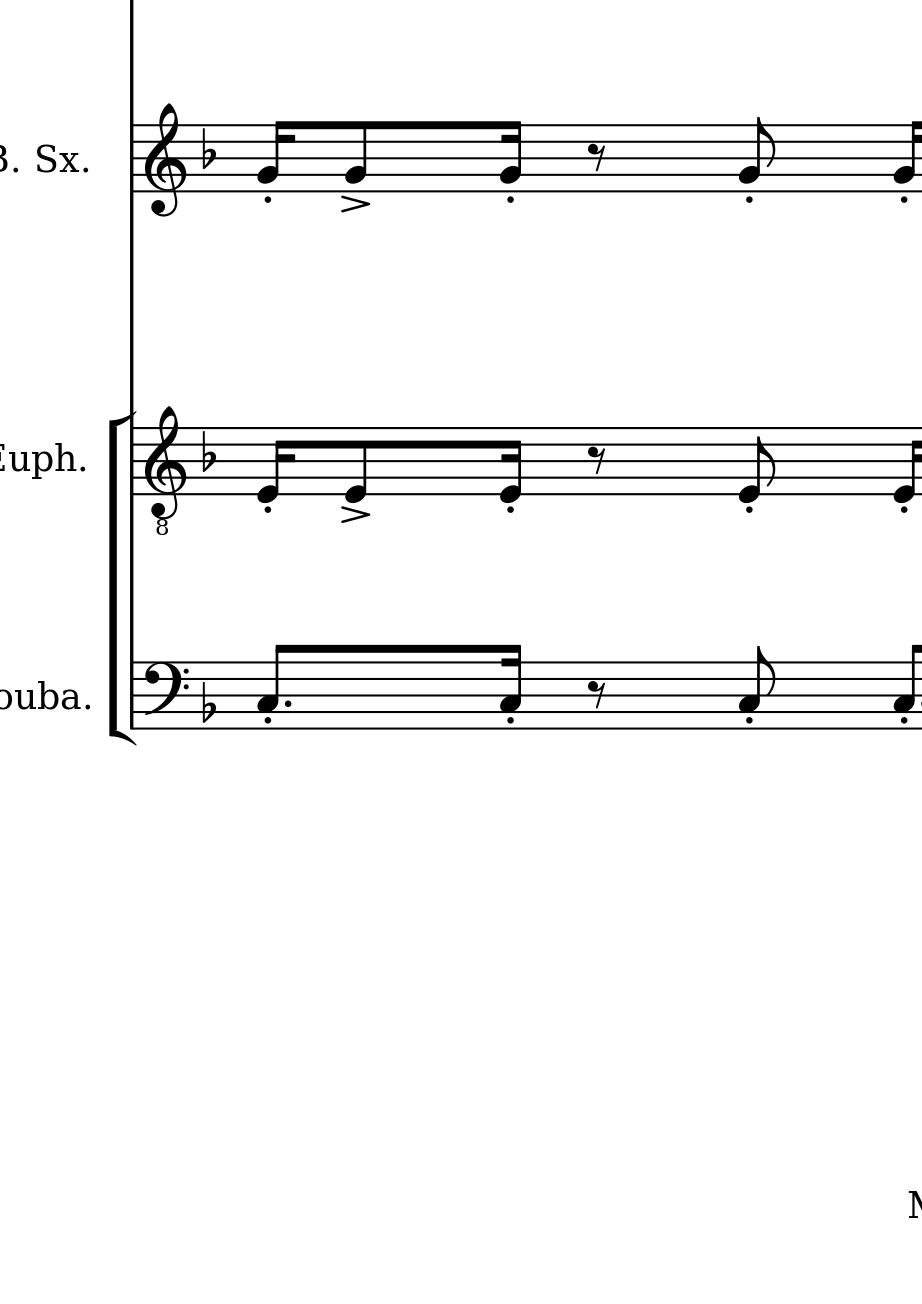16_0: (254, 427, 292, 505), (891, 427, 919, 507), (498, 425, 523, 505)
16_2: (254, 119, 293, 193), (892, 119, 920, 193), (498, 119, 523, 193)
16_3: (498, 642, 522, 731)
8_0: (737, 425, 775, 505), (342, 426, 368, 504)
8_2: (737, 116, 775, 193), (343, 119, 368, 193)
8_3: (736, 644, 775, 732), (253, 642, 288, 731), (891, 643, 919, 731)
Accent_above: (339, 194, 372, 212), (338, 506, 371, 524)
Bracke: (109, 404, 136, 746)
Fclef: (139, 659, 189, 730)
Flat: (198, 428, 217, 474), (199, 679, 217, 724), (199, 125, 216, 171)
Gclef: (141, 102, 186, 219)
Lower_Gclef: (142, 406, 188, 537)
Rests8: (585, 141, 608, 173), (585, 679, 608, 711), (585, 445, 607, 477)
Sax: (30, 142, 79, 180)
Single_barline: (124, 662, 142, 731), (124, 124, 141, 193), (125, 429, 142, 496)
dot: (282, 698, 293, 709)
